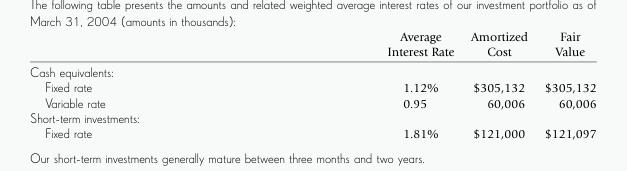table: (29, 28, 595, 140)
table column: (29, 28, 245, 140), (245, 28, 461, 140), (461, 28, 535, 140), (535, 28, 595, 140)
table column header: (29, 28, 595, 61)
table projected row header: (29, 61, 595, 79), (29, 109, 595, 124)
table row: (29, 28, 595, 61), (29, 61, 595, 79), (29, 124, 595, 140), (29, 79, 595, 94), (29, 94, 595, 109), (29, 109, 595, 124)
